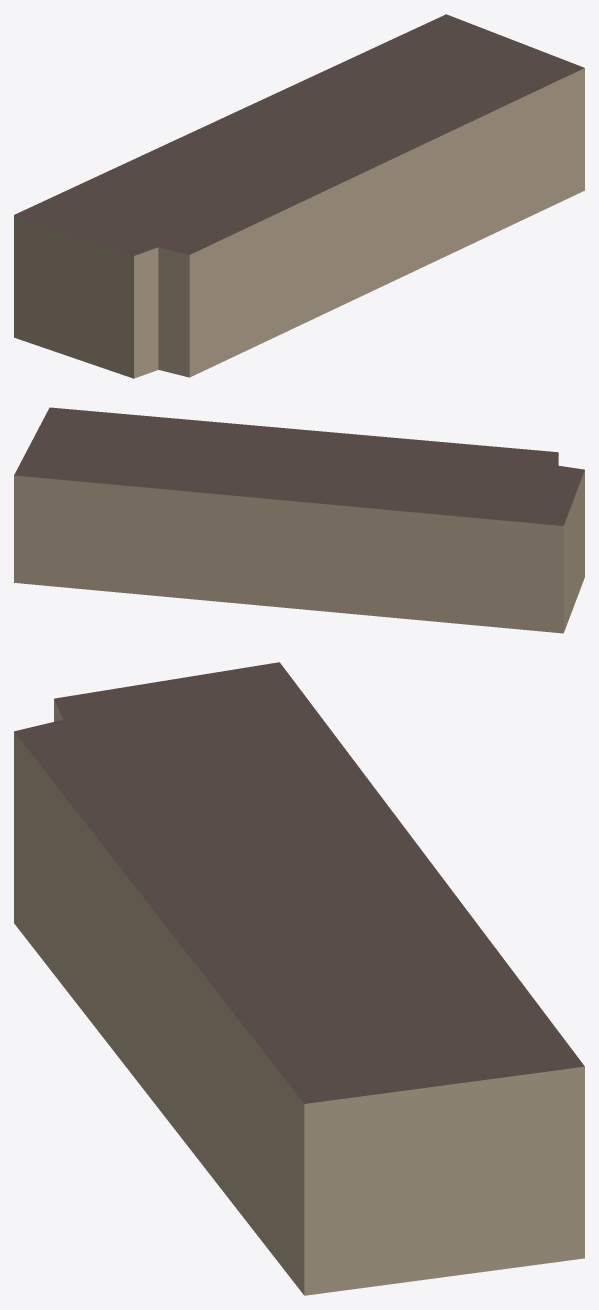
3 views of the same model, one above another, from view 1: azimuth 30°, elevation 25°; view 2: azimuth 150°, elevation 25°; view 3: azimuth 270°, elevation 25° (orthographic). The views are drawn at different scales.
Parts seen in each view (by area): view 1: HP-w1512800276; view 2: HP-w1512800276; view 3: HP-w1512800276.
Part boxes in pixels (<box>): HP-w1512800276: <box>14,14,584,378</box>; HP-w1512800276: <box>14,407,584,633</box>; HP-w1512800276: <box>14,662,584,1295</box>.
Bounding box in the file's own units: 44.46 × 9 × 24.28.
